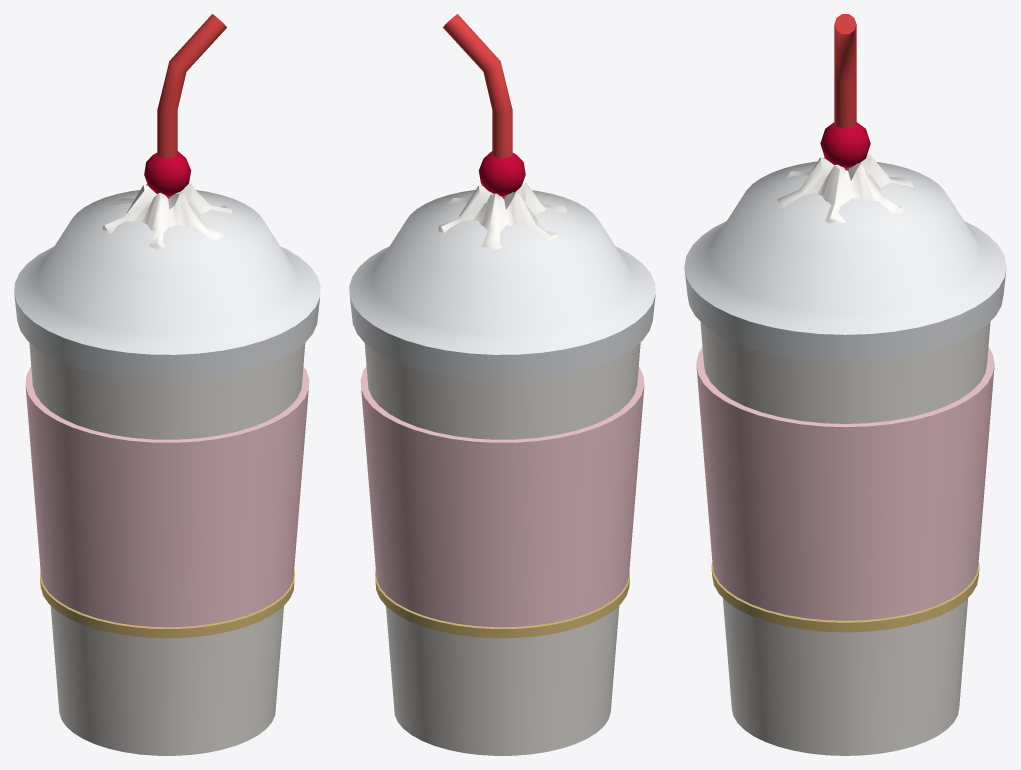
Rendered from food_shake.glb.
3 views of the same model, side by side, from view 1: azimuth 30°, elevation 25°; view 2: azimuth 150°, elevation 25°; view 3: azimuth 270°, elevation 25° (orthographic). The views are drawn at different scales.
Visible parts, largest first — view 1: Band_LOD0, Lid_LOD0, Cup_LOD0, Cream_LOD0, Straw_LOD0, Gold_LOD0, Cherry_LOD0; view 2: Band_LOD0, Lid_LOD0, Cup_LOD0, Cream_LOD0, Straw_LOD0, Gold_LOD0, Cherry_LOD0; view 3: Band_LOD0, Lid_LOD0, Cup_LOD0, Cream_LOD0, Gold_LOD0, Straw_LOD0, Cherry_LOD0.
Boxes of the visible parts, left/top/right/bottom form: Band_LOD0: left=25, top=366, right=309, bottom=627; Lid_LOD0: left=14, top=190, right=320, bottom=380; Cup_LOD0: left=29, top=342, right=305, bottom=755; Cream_LOD0: left=102, top=183, right=232, bottom=249; Straw_LOD0: left=157, top=14, right=226, bottom=198; Gold_LOD0: left=40, top=570, right=294, bottom=638; Cherry_LOD0: left=144, top=151, right=191, bottom=196; Band_LOD0: left=360, top=366, right=644, bottom=627; Lid_LOD0: left=349, top=190, right=655, bottom=380; Cup_LOD0: left=364, top=342, right=640, bottom=755; Cream_LOD0: left=438, top=182, right=566, bottom=249; Straw_LOD0: left=443, top=14, right=512, bottom=198; Gold_LOD0: left=375, top=570, right=629, bottom=638; Cherry_LOD0: left=478, top=151, right=525, bottom=196; Band_LOD0: left=696, top=347, right=994, bottom=620; Lid_LOD0: left=684, top=161, right=1006, bottom=362; Cup_LOD0: left=700, top=321, right=990, bottom=755; Cream_LOD0: left=777, top=154, right=913, bottom=223; Gold_LOD0: left=711, top=562, right=979, bottom=632; Straw_LOD0: left=834, top=14, right=856, bottom=170; Cherry_LOD0: left=820, top=122, right=870, bottom=167.
Size of the model in its own units: 0.102 by 0.2506 by 0.102.
